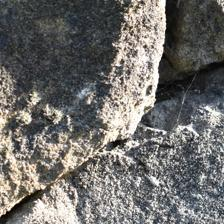Crack: (23, 88, 130, 172), (82, 11, 139, 122)
